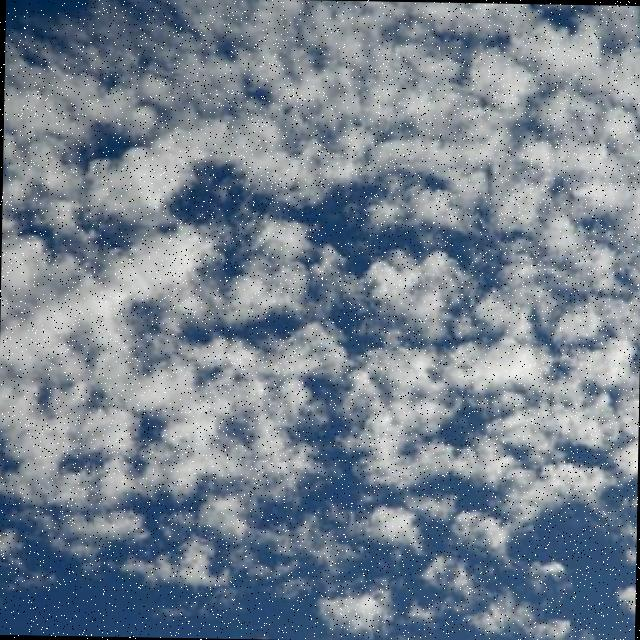Ac: (1, 1, 640, 500)
